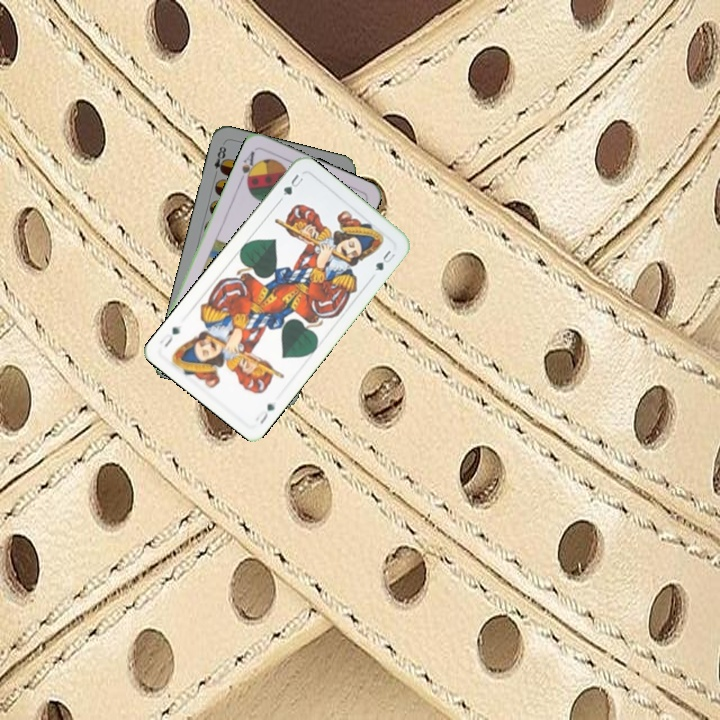E8: (210, 142, 229, 180)
GU: (279, 170, 307, 198), (251, 399, 277, 427)
SA: (236, 147, 260, 187)
